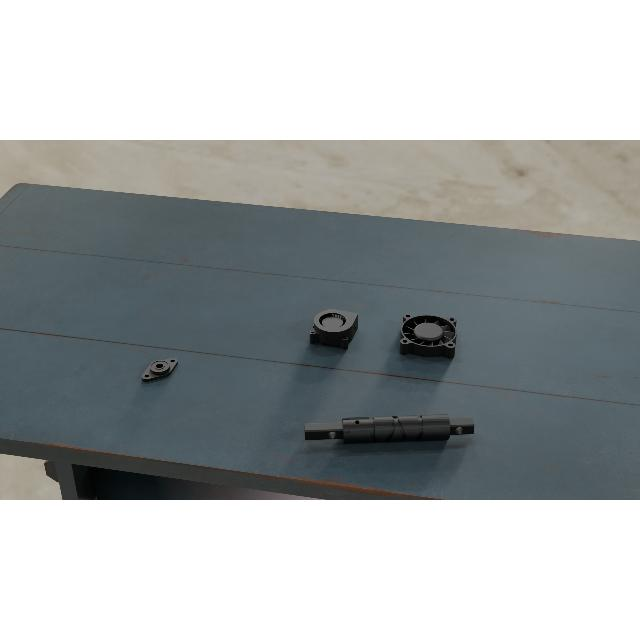Pieza1: (304, 408, 476, 450)
Pieza2: (135, 352, 185, 386)
Pieza3: (307, 307, 358, 351)
Pieza4: (398, 312, 458, 360)
